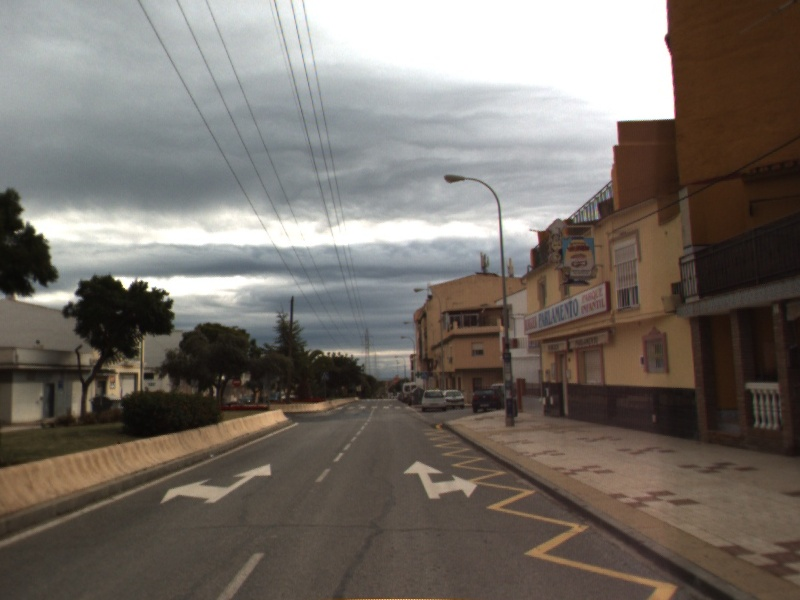STRAIGHT_LEFT: (159, 461, 273, 505)
STRAIGHT_RIGHT: (402, 458, 479, 501)
